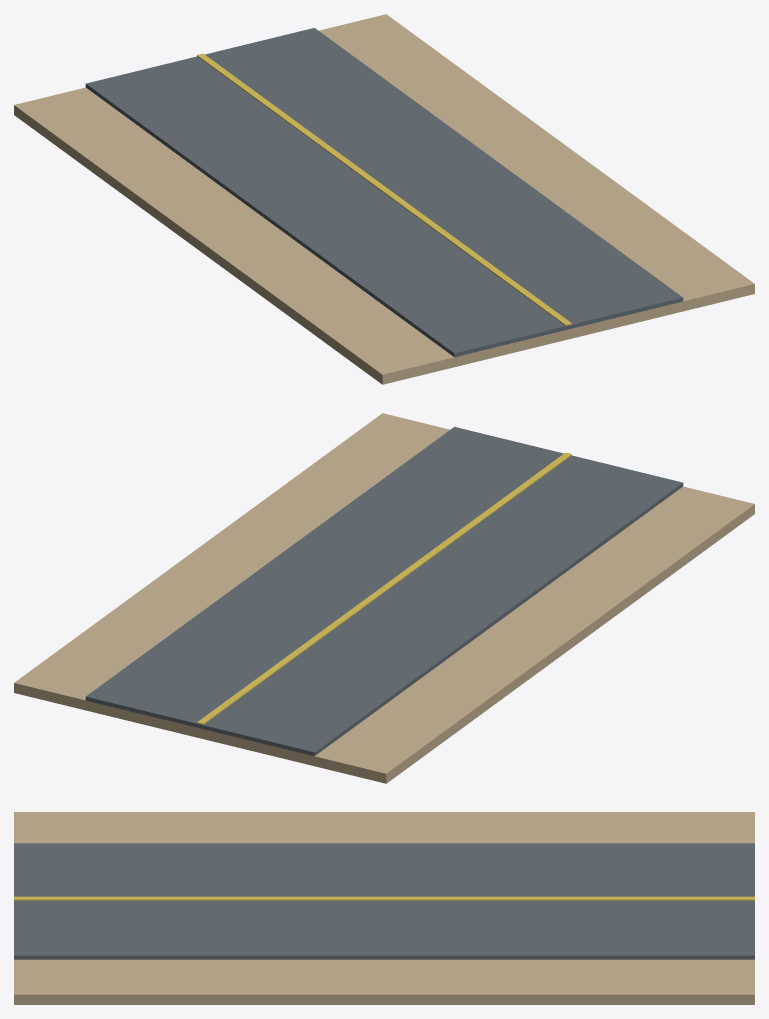
The model's file is township_road_12m.glb.
3 renders of one model, top to bottom at view 1: azimuth 30°, elevation 25°; view 2: azimuth 150°, elevation 25°; view 3: azimuth 270°, elevation 25°, orthographic.
Parts seen in each view (by area): view 1: part_1, part_0, part_2; view 2: part_1, part_0, part_2; view 3: part_1, part_0, part_2.
Part boxes in pixels (bbox=[...]): part_1: bbox=[85, 28, 683, 357]; part_0: bbox=[14, 14, 754, 384]; part_2: bbox=[197, 53, 571, 325]; part_1: bbox=[85, 427, 683, 756]; part_0: bbox=[14, 413, 754, 783]; part_2: bbox=[197, 452, 571, 724]; part_1: bbox=[14, 843, 754, 959]; part_0: bbox=[14, 812, 754, 1004]; part_2: bbox=[14, 896, 754, 900].
Bounding box in the file's own units: 7 × 0.275 × 12.
